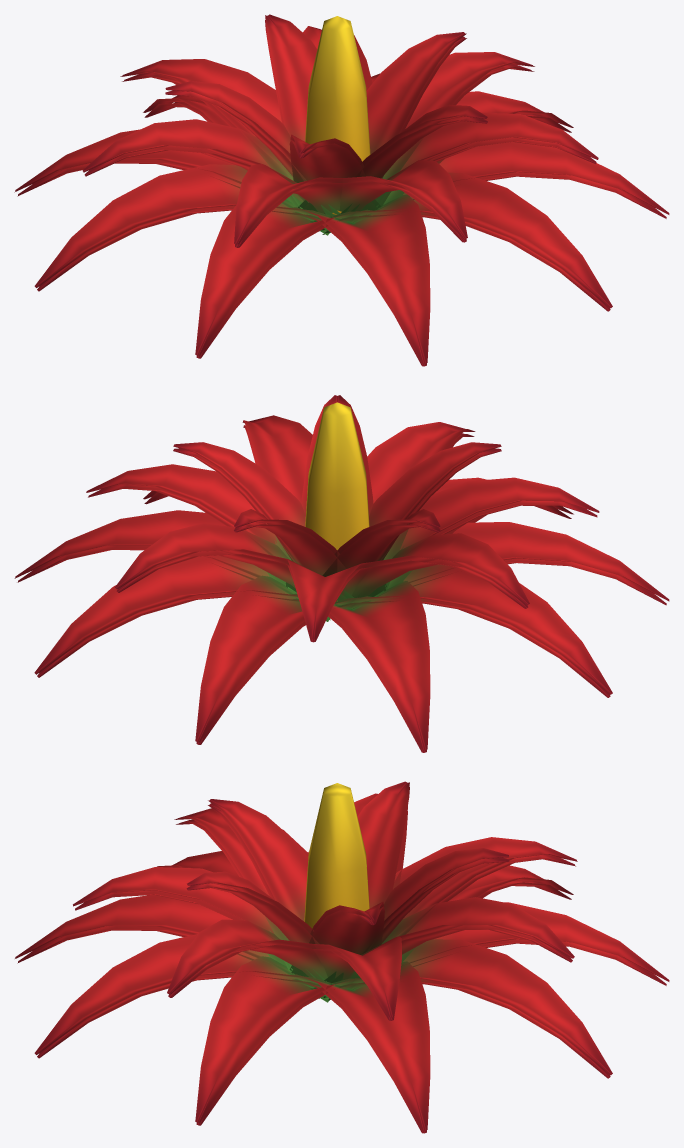
File: Kit_Bromeliad.obj
3 views of the same model, one above another, from view 1: azimuth 30°, elevation 25°; view 2: azimuth 150°, elevation 25°; view 3: azimuth 270°, elevation 25° (orthographic).
Parts seen in each view (by area): view 1: Kit_Bromeliad; view 2: Kit_Bromeliad; view 3: Kit_Bromeliad.
Boxes of the visible parts, left/top/right/bottom form: Kit_Bromeliad: left=14, top=14, right=669, bottom=366; Kit_Bromeliad: left=14, top=395, right=669, bottom=752; Kit_Bromeliad: left=15, top=781, right=669, bottom=1133.
Size of the model in its own units: 5.13 by 1.87 by 5.14.
Materials: 1 (1 with a texture image).
